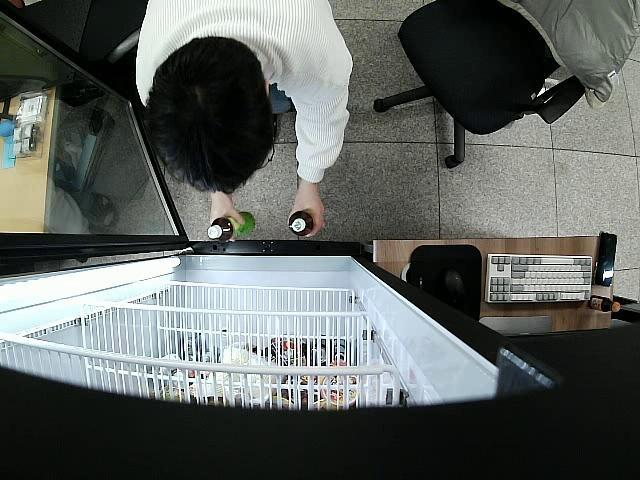19_17cha: (208, 211, 256, 241), (288, 210, 314, 238)
